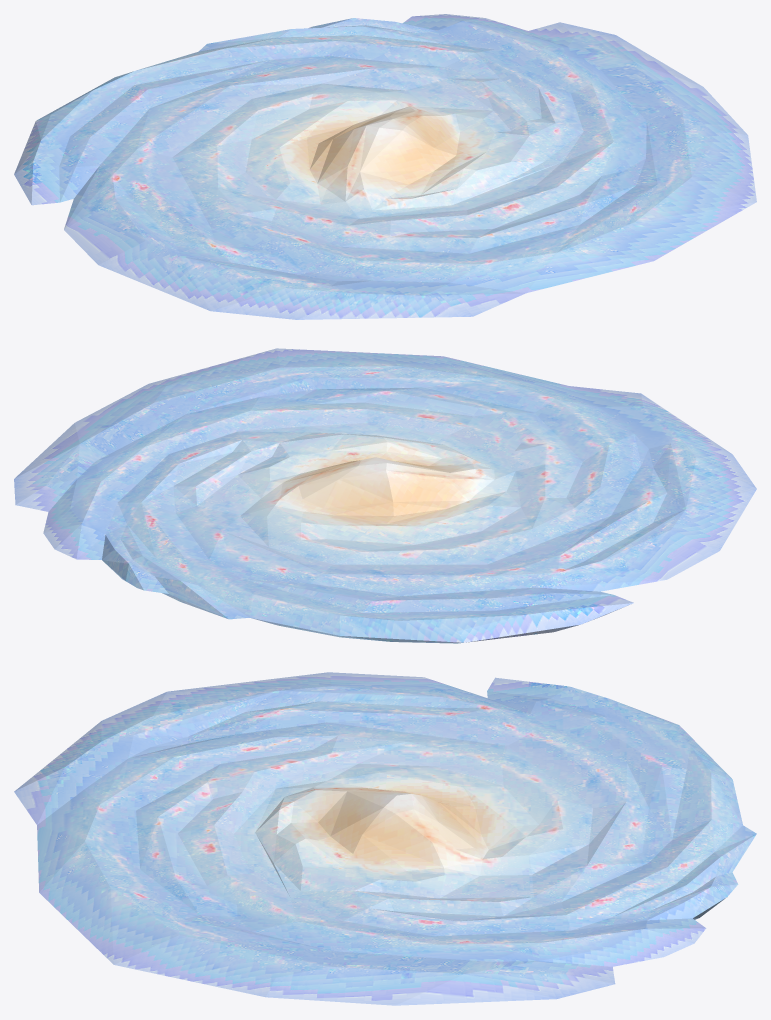
The model's file is Eye_of_Terror.obj.
The picture shows the model from 3 angles, top to bottom: view 1: azimuth 30°, elevation 25°; view 2: azimuth 150°, elevation 25°; view 3: azimuth 270°, elevation 25°; orthographic projection. The views are drawn at different scales.
Visible parts, largest first — view 1: MilkyWay; view 2: MilkyWay; view 3: MilkyWay.
Boxes of the visible parts, x1=… form: MilkyWay: x1=14, y1=14, x2=756, y2=319; MilkyWay: x1=14, y1=348, x2=756, y2=643; MilkyWay: x1=14, y1=672, x2=756, y2=1005.
Size of the model in its own units: 9.79 by 1.11 by 9.22.
